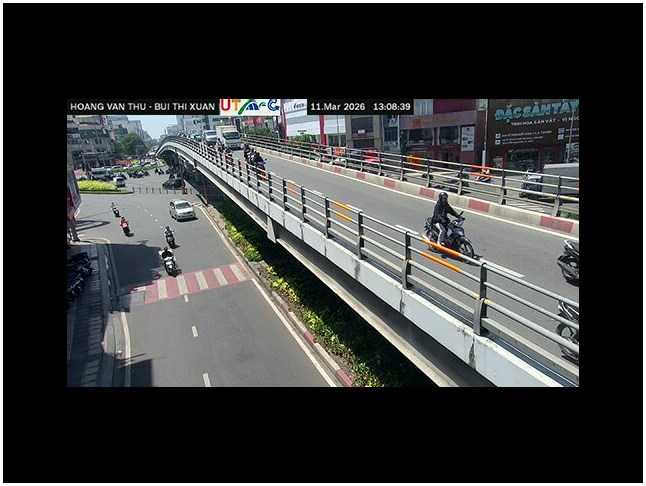car: (556, 239, 579, 287), (168, 198, 198, 222), (164, 225, 181, 250)
